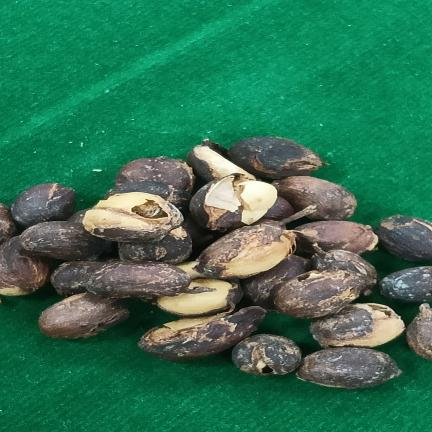husk: (138, 306, 266, 361), (195, 224, 296, 279), (82, 192, 183, 242), (296, 347, 402, 389), (274, 269, 364, 318), (227, 136, 327, 179), (310, 303, 405, 348), (38, 293, 129, 339), (85, 261, 191, 298), (272, 176, 357, 220), (204, 174, 277, 225), (20, 221, 111, 261), (156, 278, 243, 318), (186, 139, 256, 182), (0, 236, 50, 296), (11, 183, 76, 229), (311, 249, 377, 294), (232, 334, 301, 376), (115, 156, 195, 192), (295, 220, 378, 254), (119, 227, 192, 264), (375, 215, 432, 261), (50, 261, 105, 296), (379, 266, 432, 302), (406, 303, 432, 360)
